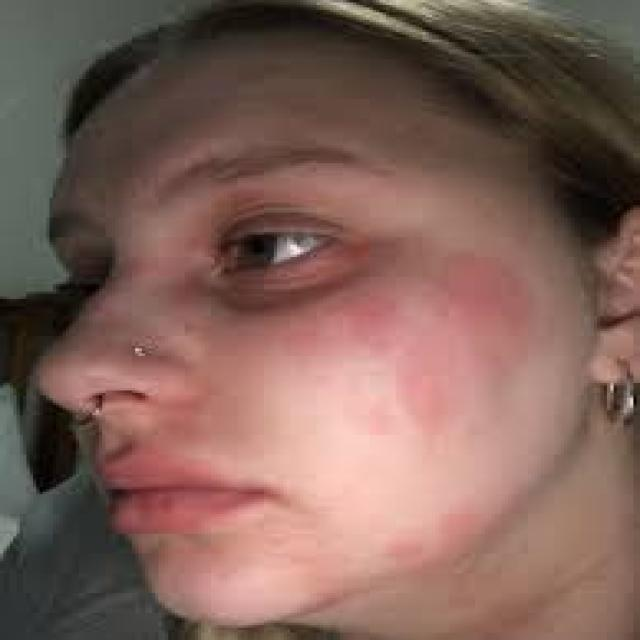Eczema: (354, 243, 524, 440)
